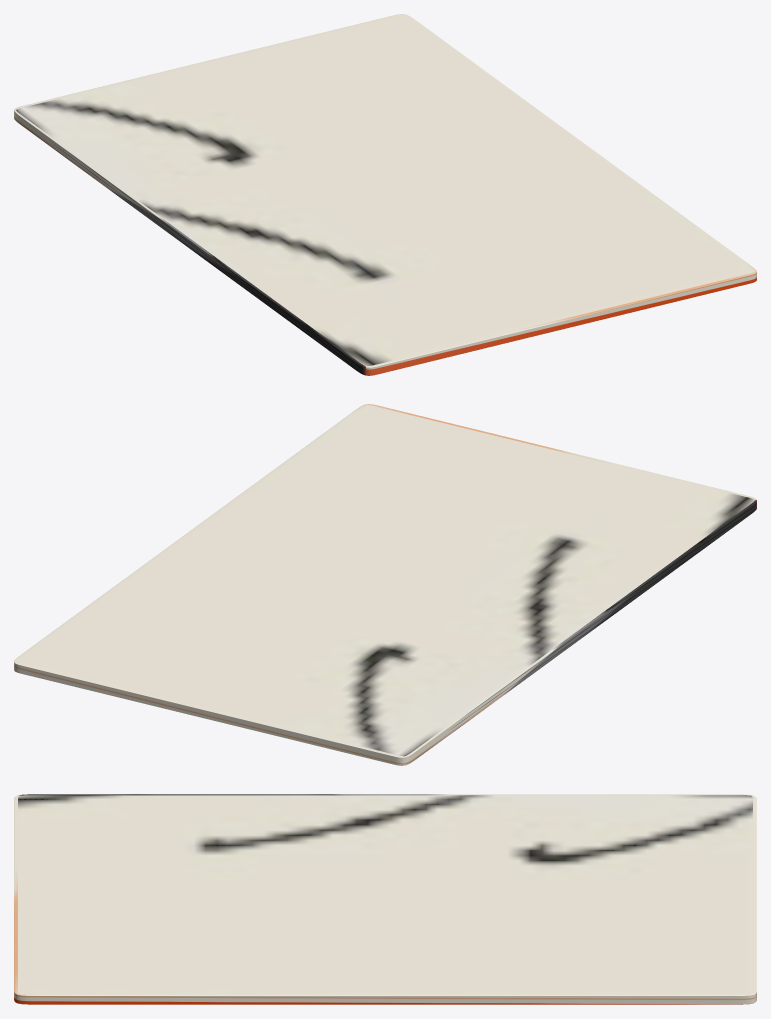
3 renders of one model, top to bottom at view 1: azimuth 30°, elevation 25°; view 2: azimuth 150°, elevation 25°; view 3: azimuth 270°, elevation 25°, orthographic. The views are drawn at different scales.
Parts seen in each view (by area): view 1: 立方体.003; view 2: 立方体.003; view 3: 立方体.003.
Part boxes in pixels (x1,y1,x2,y2): 立方体.003: (14, 14, 756, 375); 立方体.003: (14, 404, 756, 765); 立方体.003: (14, 794, 756, 1004).
Bounding box in the file's own units: 190 × 4 × 296.
